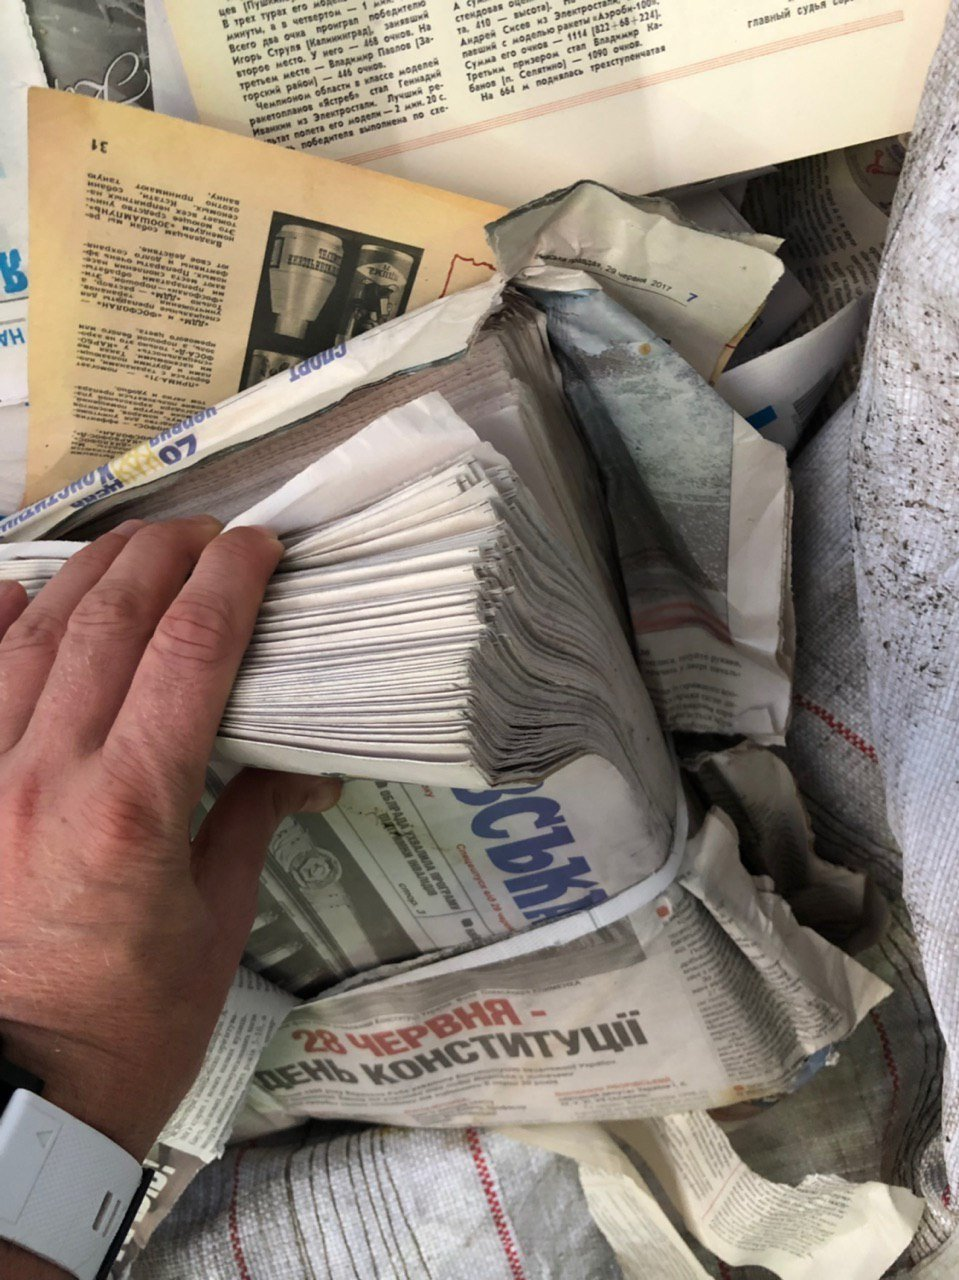paper: (3, 52, 625, 601)
